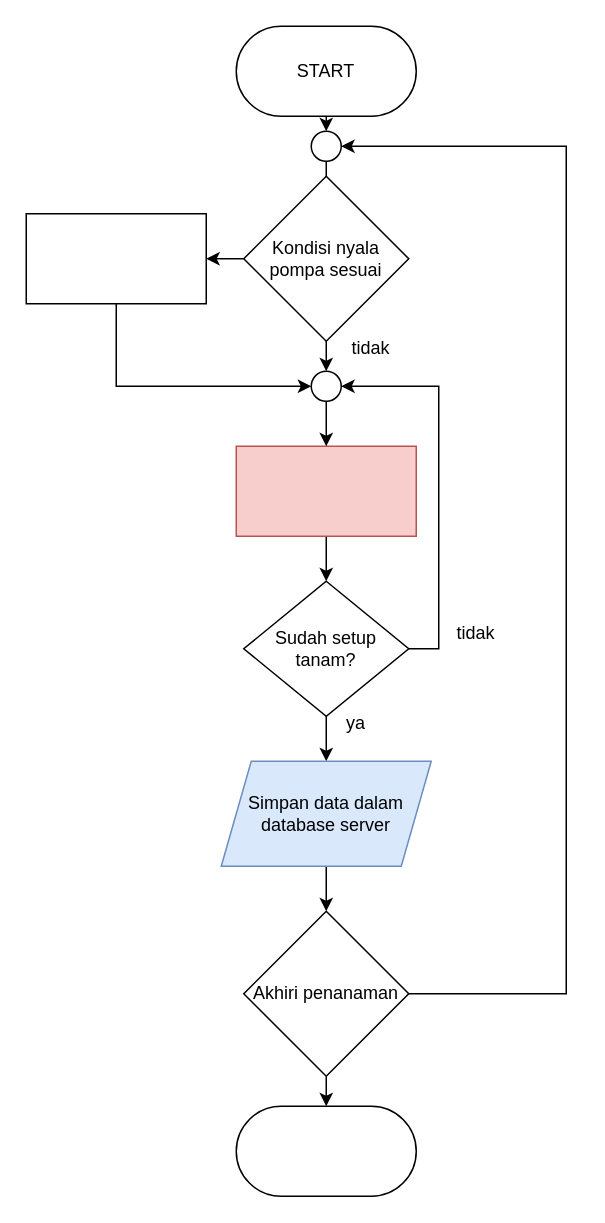
This 605x1223 diagram has some shape labels left out. Each missing label, with the box of its shape:
END: (235, 1105, 416, 1196)
ESP32 Kirim Data ke Node Red via MQTT: (235, 445, 416, 536)
Pompa nyala: (25, 212, 206, 304)
